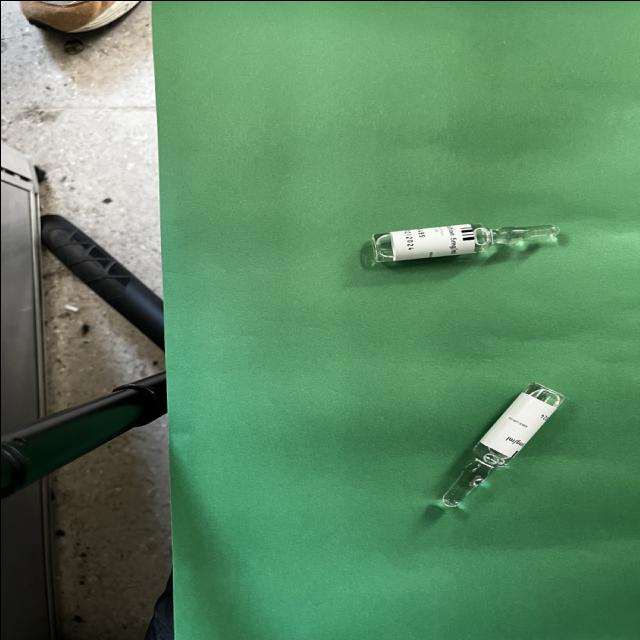Ampoules: (441, 382, 565, 507), (369, 222, 560, 262)
